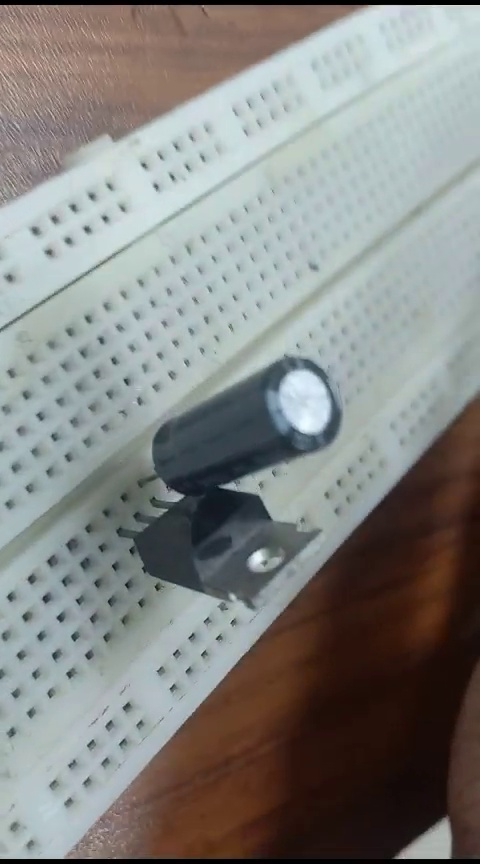capacitor: (135, 359, 343, 488)
voltage regulator: (122, 483, 328, 612)
